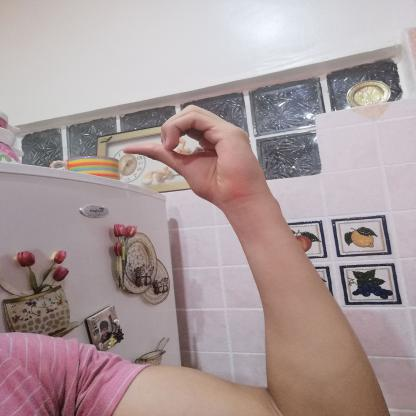WAW: (109, 96, 281, 214)
